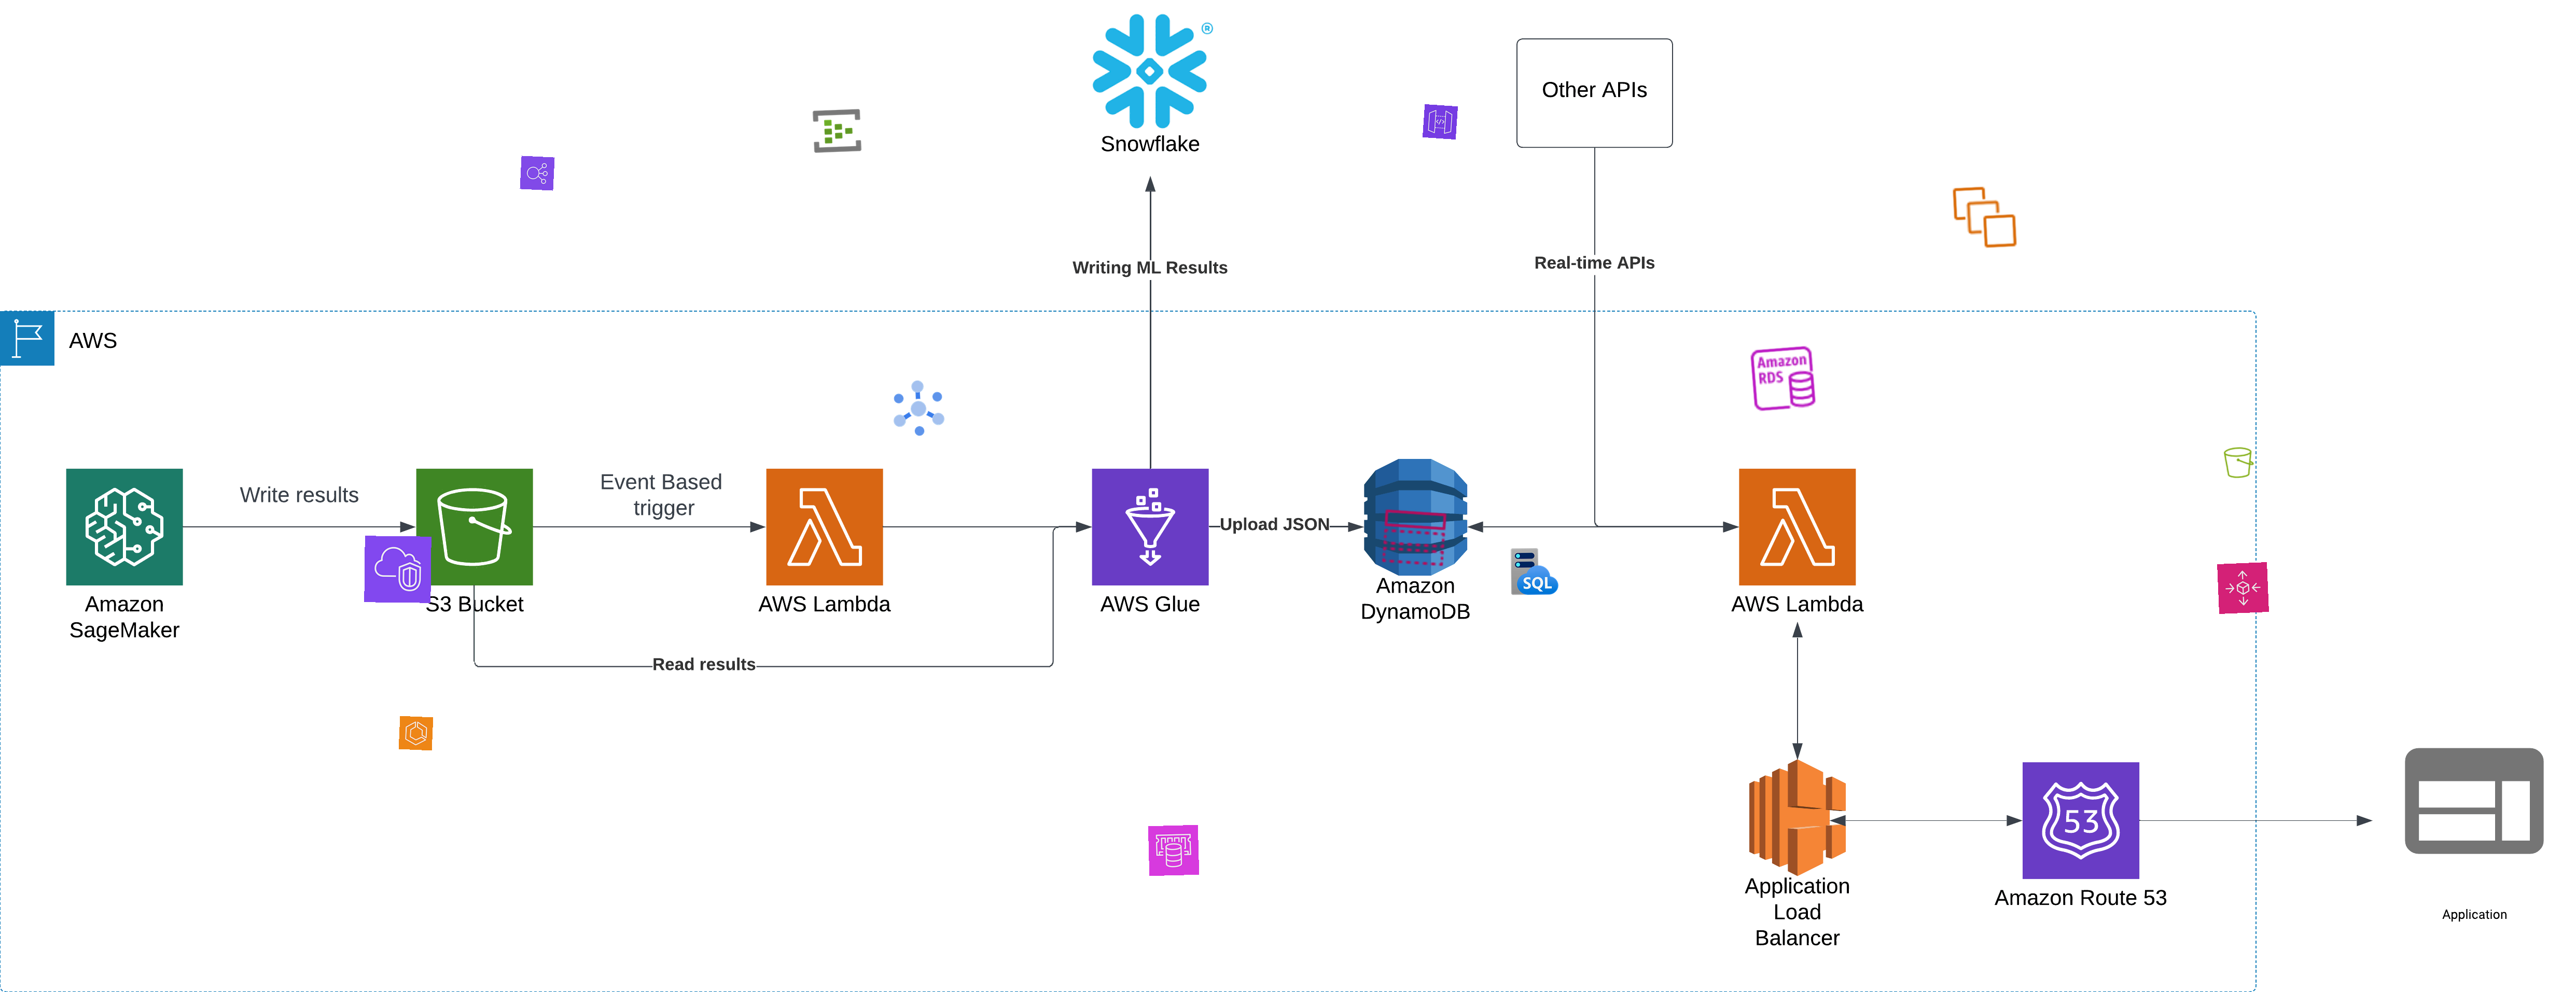aws_amazon_api_gateway: (1423, 103, 1459, 140)
aws_amazon_elastic_container_service: (398, 716, 434, 751)
aws_amazon_elasticache: (1148, 824, 1199, 877)
aws_amazon_virtual_private_cloud: (365, 535, 432, 603)
aws_aurora_amazon_rds_instance: (1748, 343, 1819, 414)
aws_auto_scaling: (2218, 562, 2269, 614)
aws_ec2_instances: (1950, 182, 2021, 253)
aws_elastic_load_balancing: (519, 156, 555, 191)
aws_simple_notification_service_topic: (1378, 503, 1451, 573)
aws_simple_storage_service_s3_standard: (2221, 445, 2257, 480)
azure_event_hubs: (812, 105, 862, 156)
azure_sql_managed_instance: (1510, 545, 1561, 596)
gcp_pubsub: (884, 373, 953, 443)
